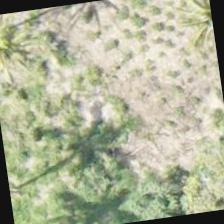Kelapa_Sawit: (0, 8, 57, 99)
